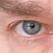eye: (22, 21, 40, 35)
